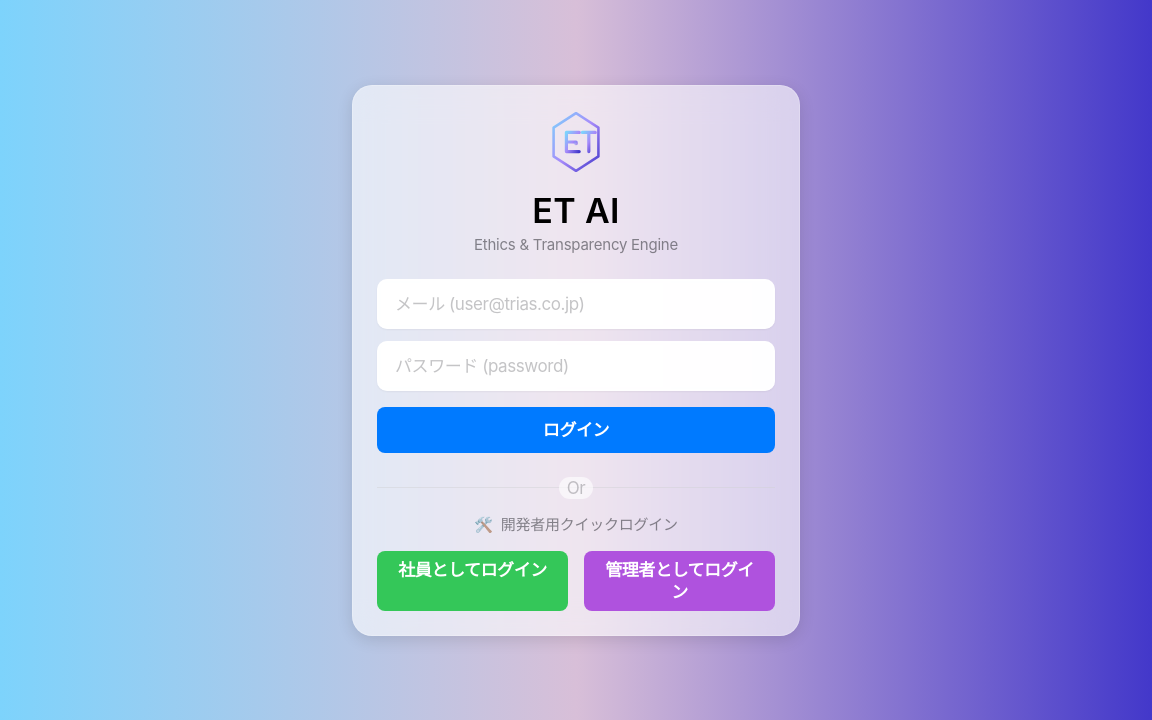
Test: Auth Component - User Authentication Experience › Error Handling - Specification: Users should see errors for invalid credentials › should show error for wrong password
The width and height of the screenshot is (1152, 720).
Type "user@trias.co.jp" into the field with placeholder "メール (user@trias.co.jp)" at (576, 304), box left=377, top=278, right=775, bottom=328
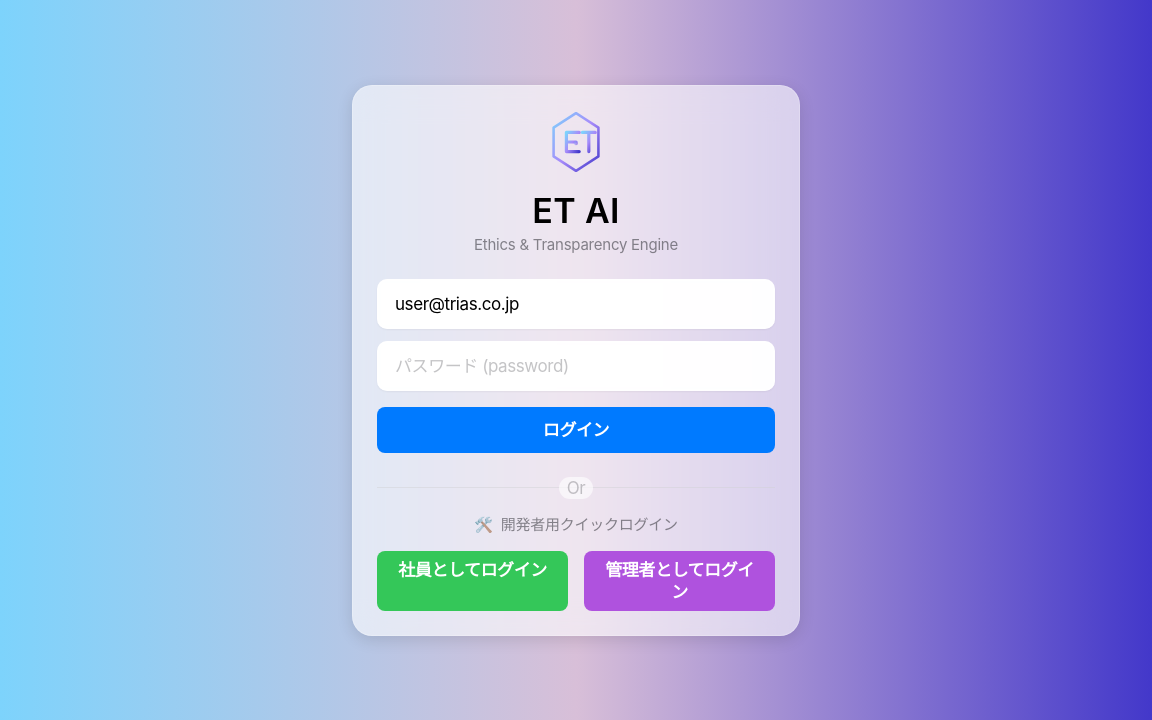
Type "wrongpassword" into the password field with placeholder "パスワード (password)" at (576, 366), box left=377, top=340, right=775, bottom=390
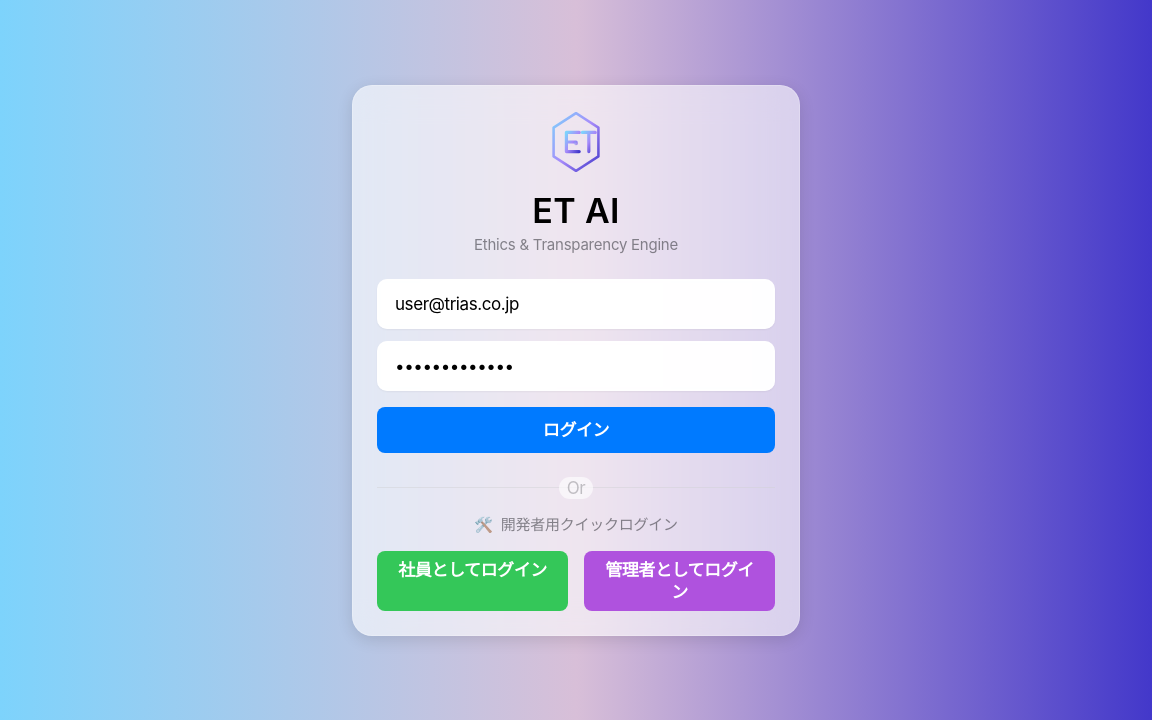
Click the button "ログイン" at (576, 430), box left=377, top=406, right=775, bottom=452
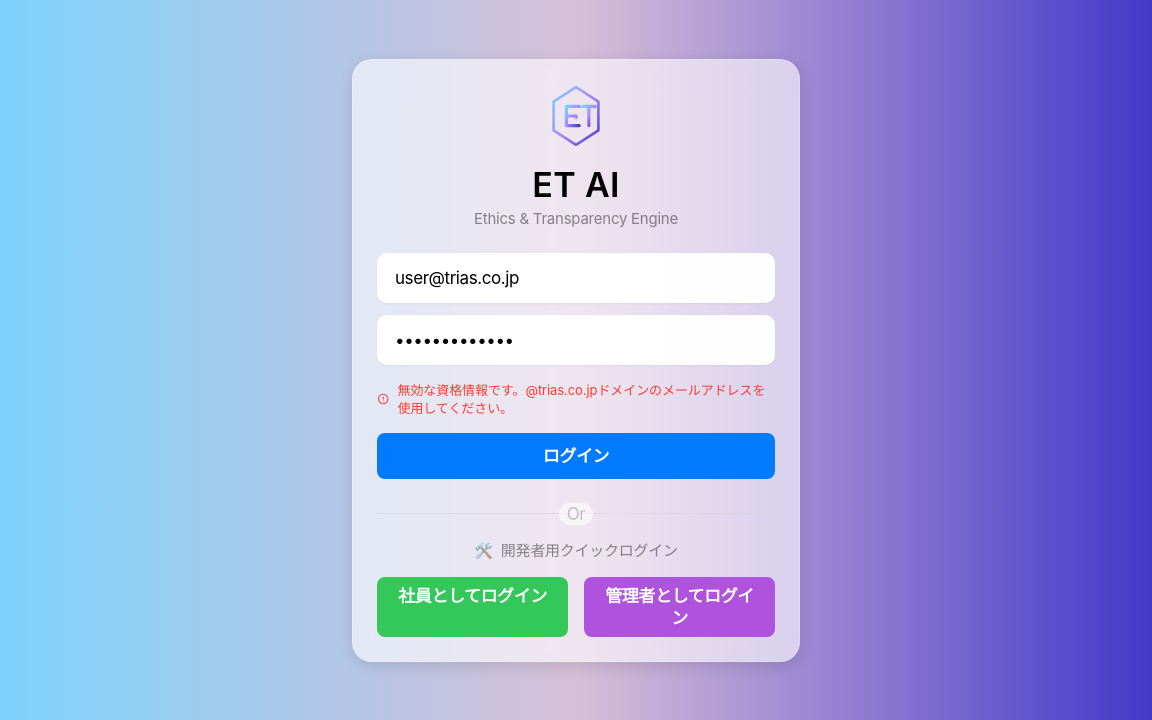
Check: the text "無効な資格情報です。@trias.co.jpドメインのメールアドレスを使用してください。" is shown, box left=398, top=380, right=775, bottom=416
